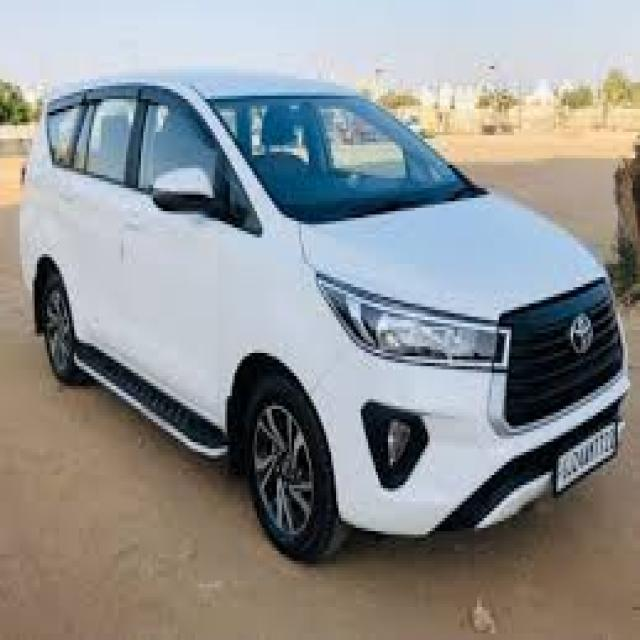light_vehicle: (21, 65, 630, 568)
